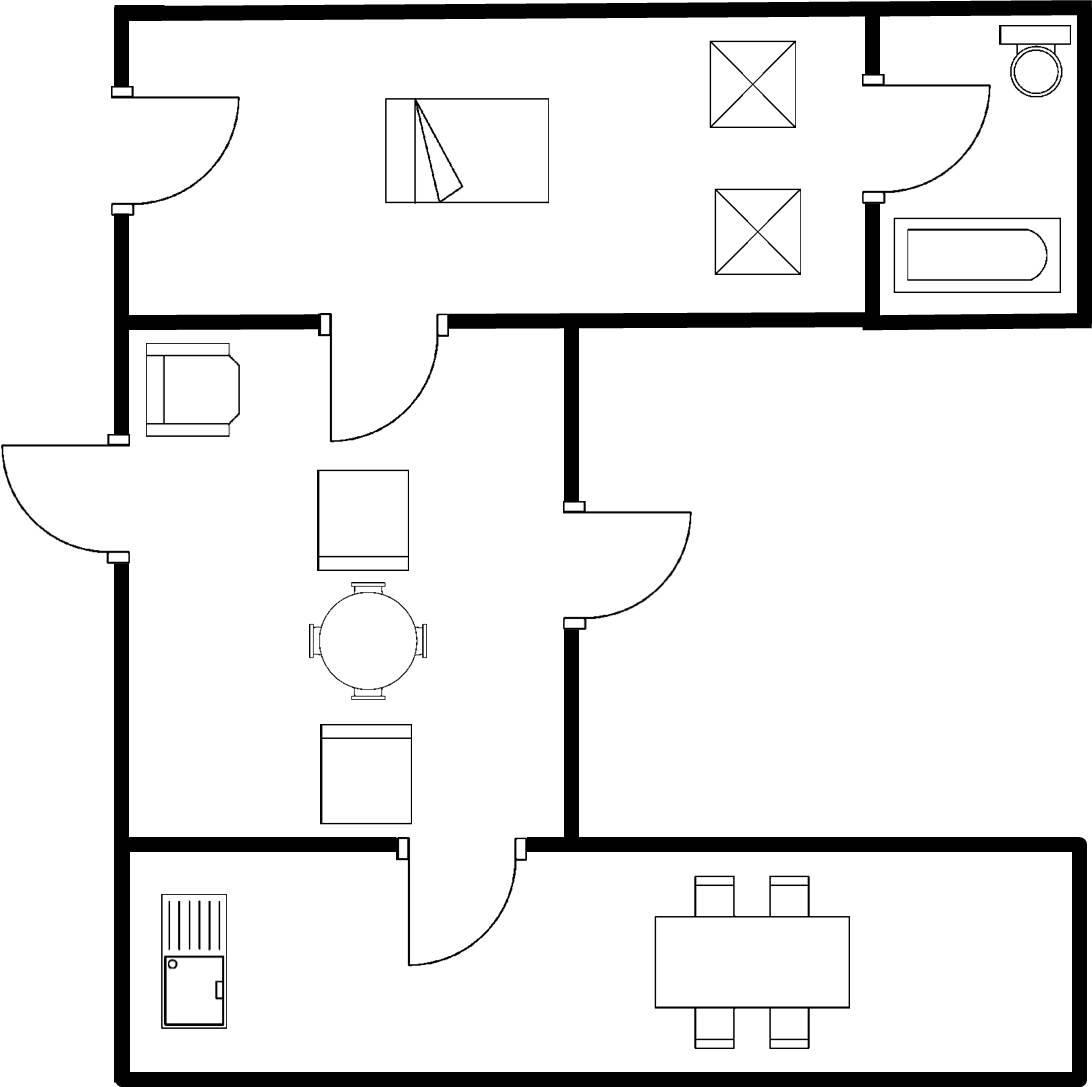bed: (374, 90, 559, 211)
dining_table: (644, 865, 859, 1059)
round_table: (299, 576, 439, 709)
sink: (152, 884, 233, 1042)
toilet: (993, 20, 1073, 100)
tub: (887, 210, 1066, 300)
